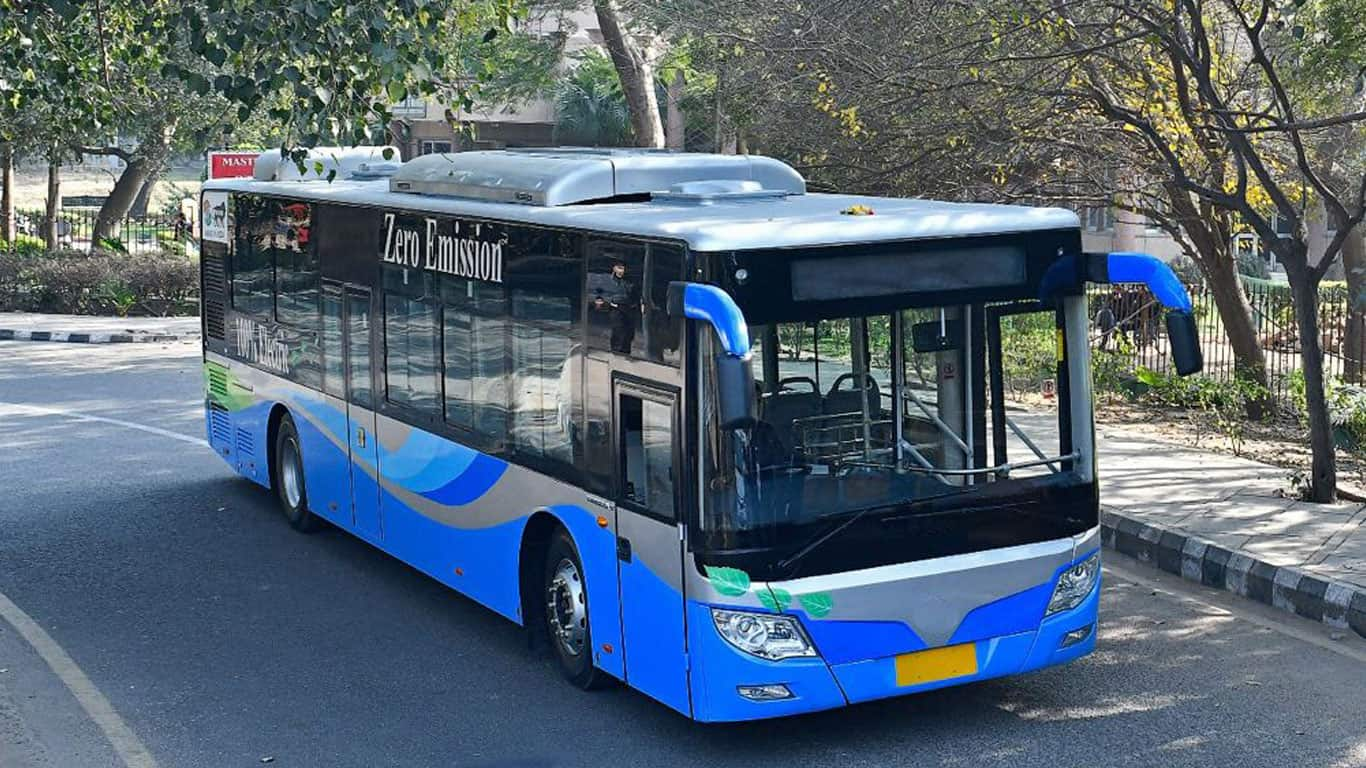bus: (197, 148, 1199, 730)
